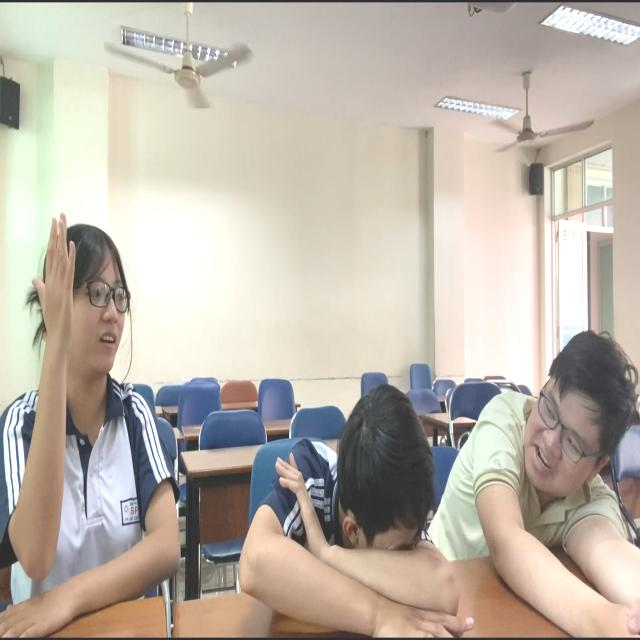raise_hand: (1, 183, 187, 640)
sleep: (249, 386, 475, 640)
